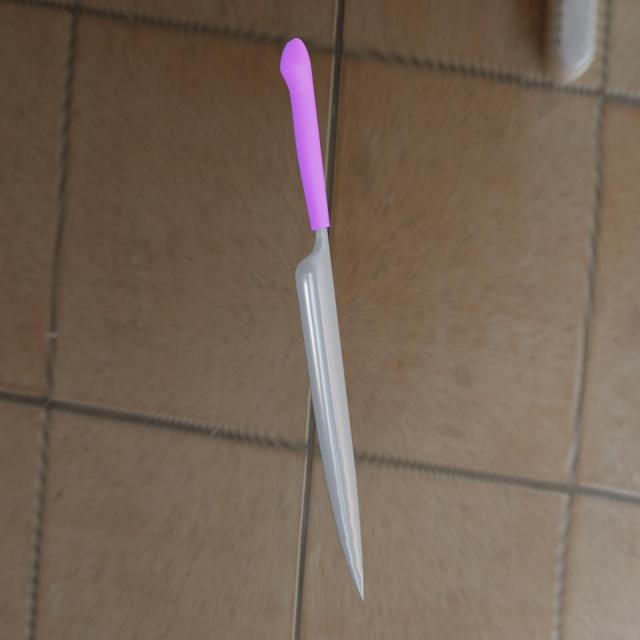knife: (280, 37, 330, 234)
